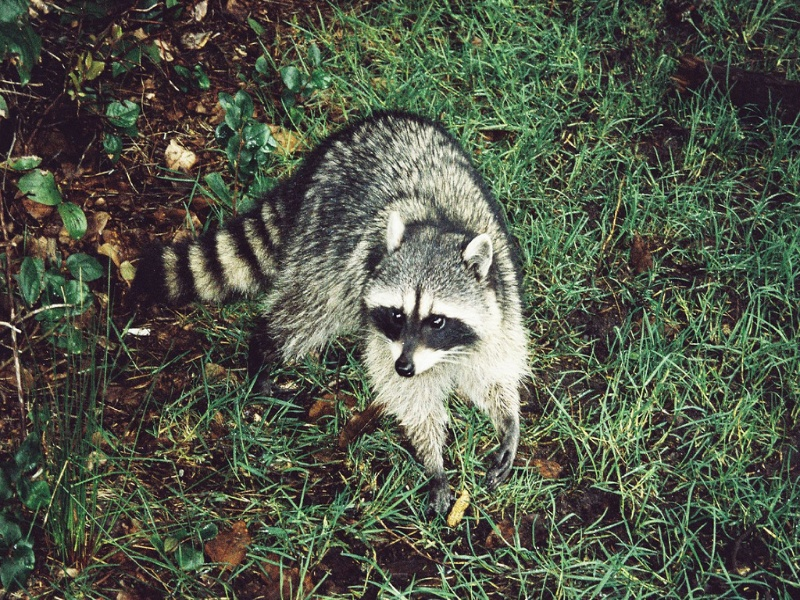raccoon: (140, 105, 526, 499)
